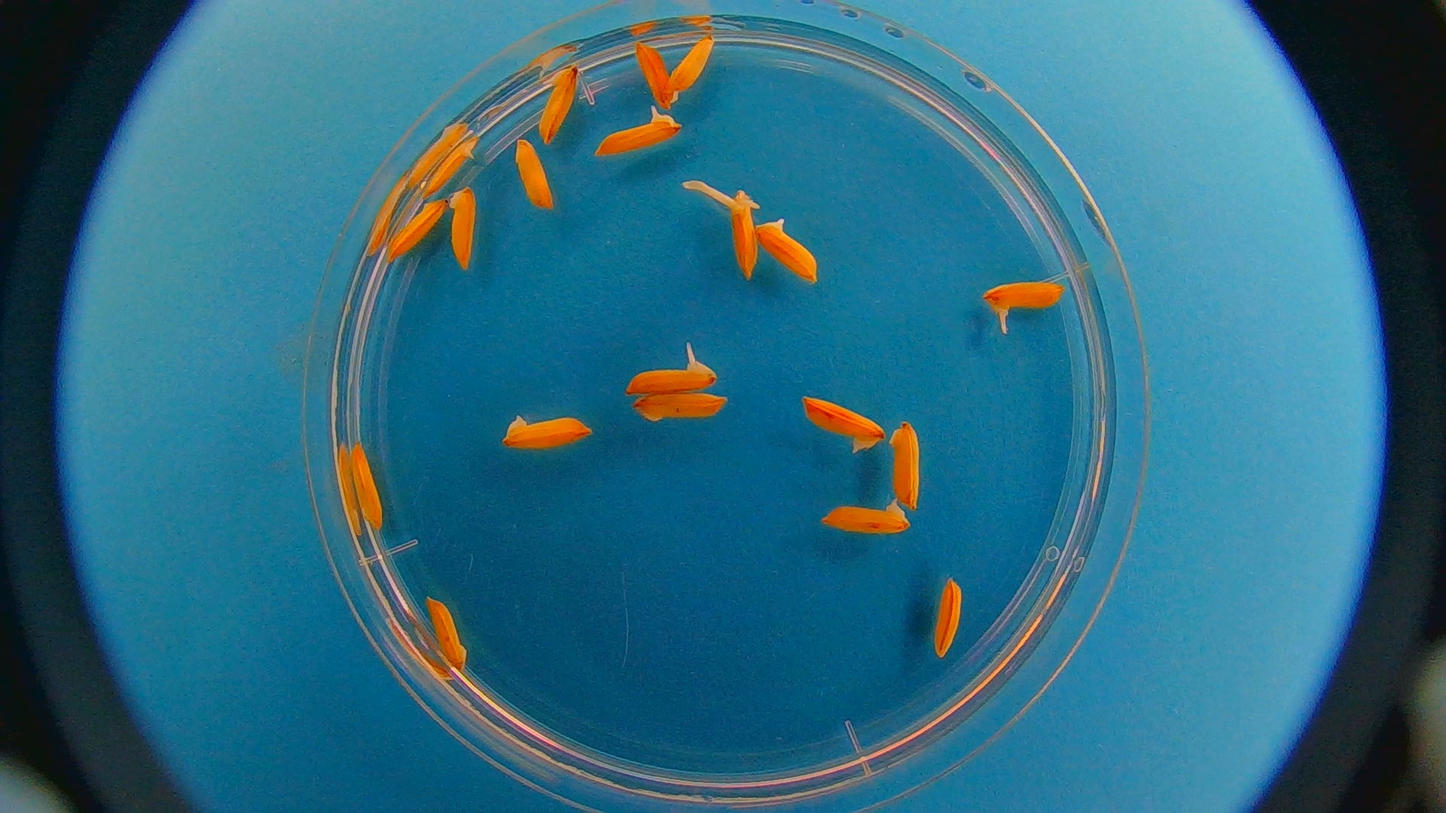no: (798, 389, 888, 461), (754, 215, 825, 290), (343, 440, 396, 539), (506, 133, 561, 218), (816, 497, 917, 541), (429, 129, 491, 197), (421, 589, 471, 673), (886, 419, 932, 510), (499, 413, 595, 456), (388, 193, 447, 262), (624, 39, 676, 113), (628, 391, 730, 428), (448, 181, 487, 266), (670, 34, 722, 96), (934, 575, 967, 661)
yes: (592, 107, 683, 160), (624, 352, 721, 397), (985, 280, 1069, 320), (541, 64, 582, 144), (727, 184, 760, 282)
